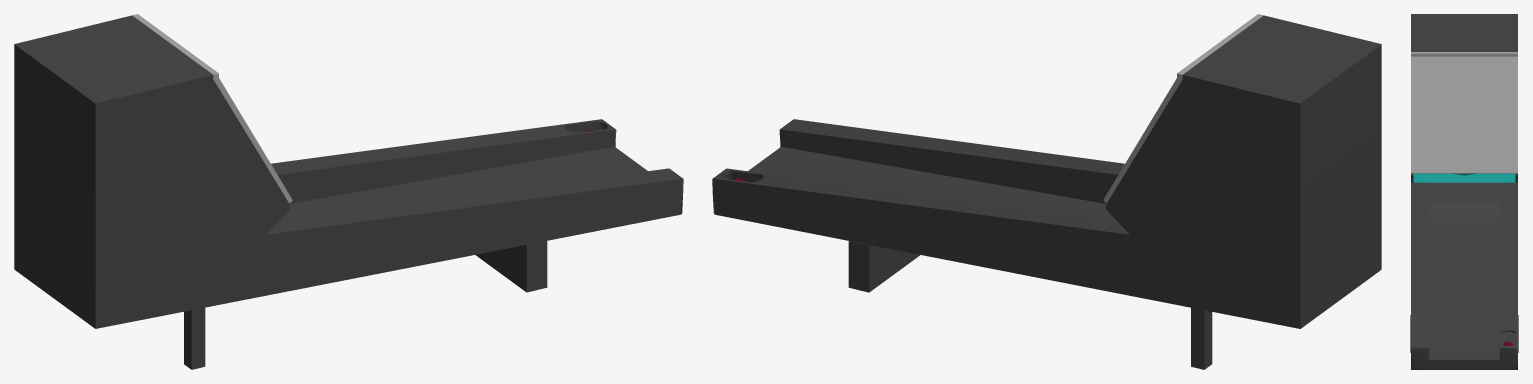
File: SkeeBall_Machine_FBX_Smoothed.fbx
3 views of the same model, side by side, from view 1: azimuth 30°, elevation 25°; view 2: azimuth 150°, elevation 25°; view 3: azimuth 270°, elevation 25° (orthographic). The views are drawn at different scales.
Visible parts, largest first — view 1: Skeleton, Front_Leg, Glass, Back_Leg_Left; view 2: Skeleton, Front_Leg, Glass, Back_Leg_Right; view 3: Skeleton, Glass, Board1.
Boxes of the visible parts, x1,y1,x2,y2 form: Skeleton: (14,15,683,328); Front_Leg: (475,241,547,292); Glass: (132,14,292,203); Back_Leg_Left: (184,307,205,369); Skeleton: (712,15,1381,328); Front_Leg: (848,241,919,292); Glass: (1103,14,1263,203); Back_Leg_Right: (1191,307,1212,369); Skeleton: (1411,14,1517,369); Glass: (1411,52,1517,173); Board1: (1413,173,1515,182).
Bounding box in the file's own units: 4.62 × 2.2 × 1.12.
